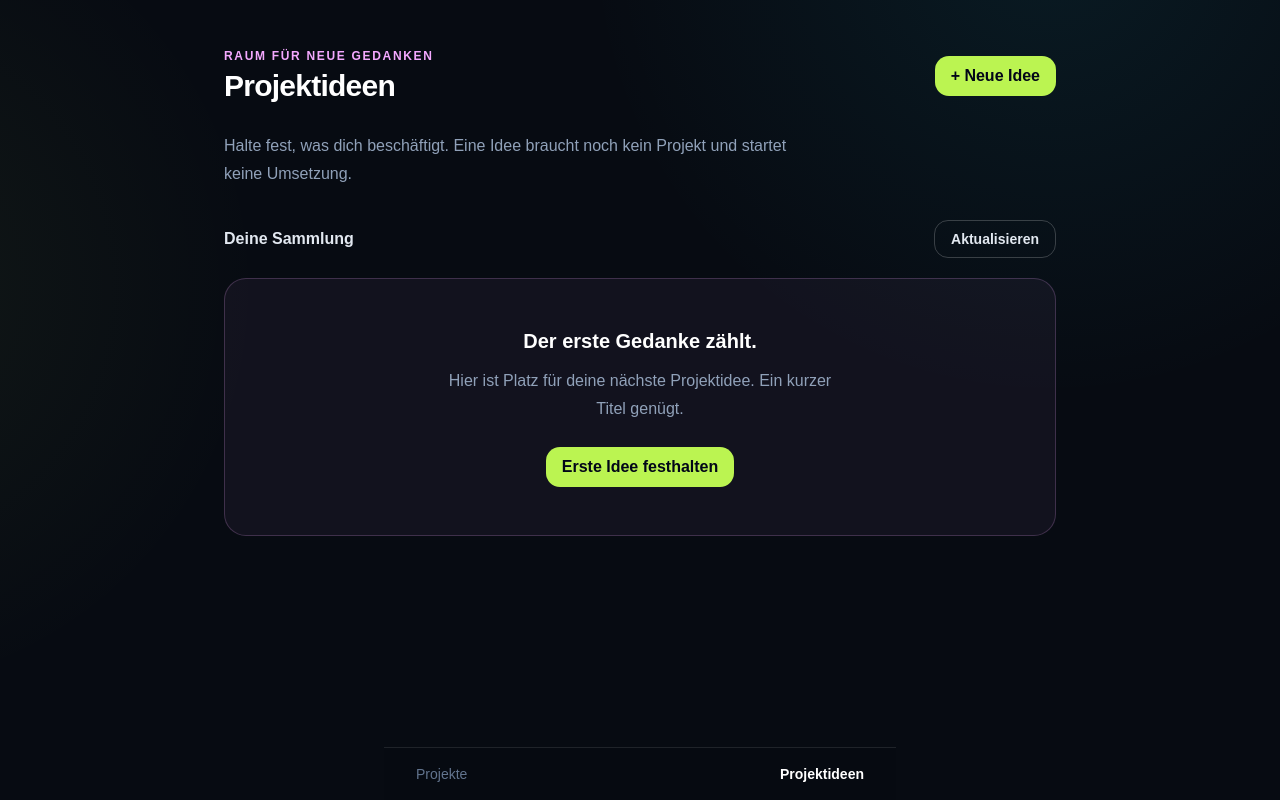
Scenario: Projektideen › beginnt aus der leeren Sammlung und erlaubt einen Titel ohne Details
The width and height of the screenshot is (1280, 800).
Check: the heading "Der erste Gedanke zählt." is shown, box [523,330,757,352]
Click the button "Erste Idee festhalten". click: [640, 467]
box: [546,447,734,487]
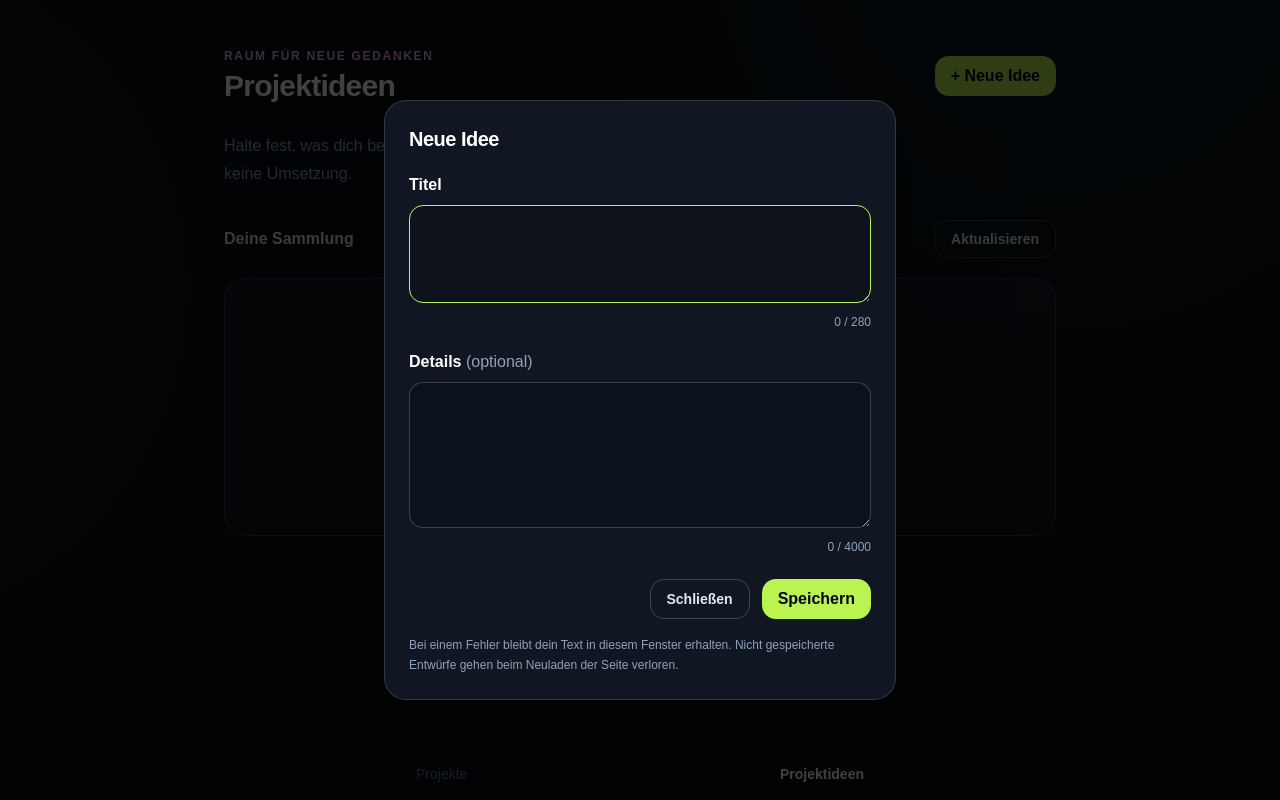
Type "Nur ein Gedanke" into the text box labelled "Titel". click: [640, 254]
box: [409,205,871,303]
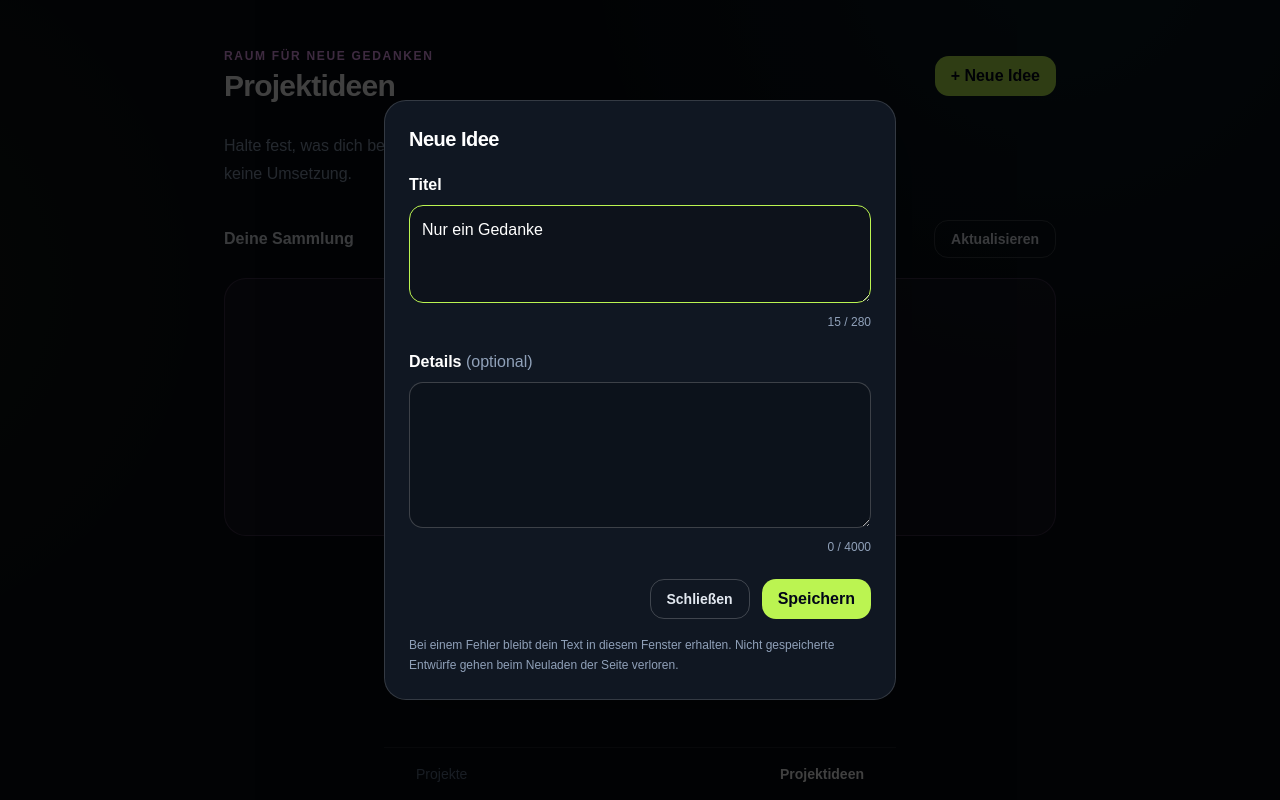
Click the button "Speichern". click: [816, 599]
box: [762,579,871,619]
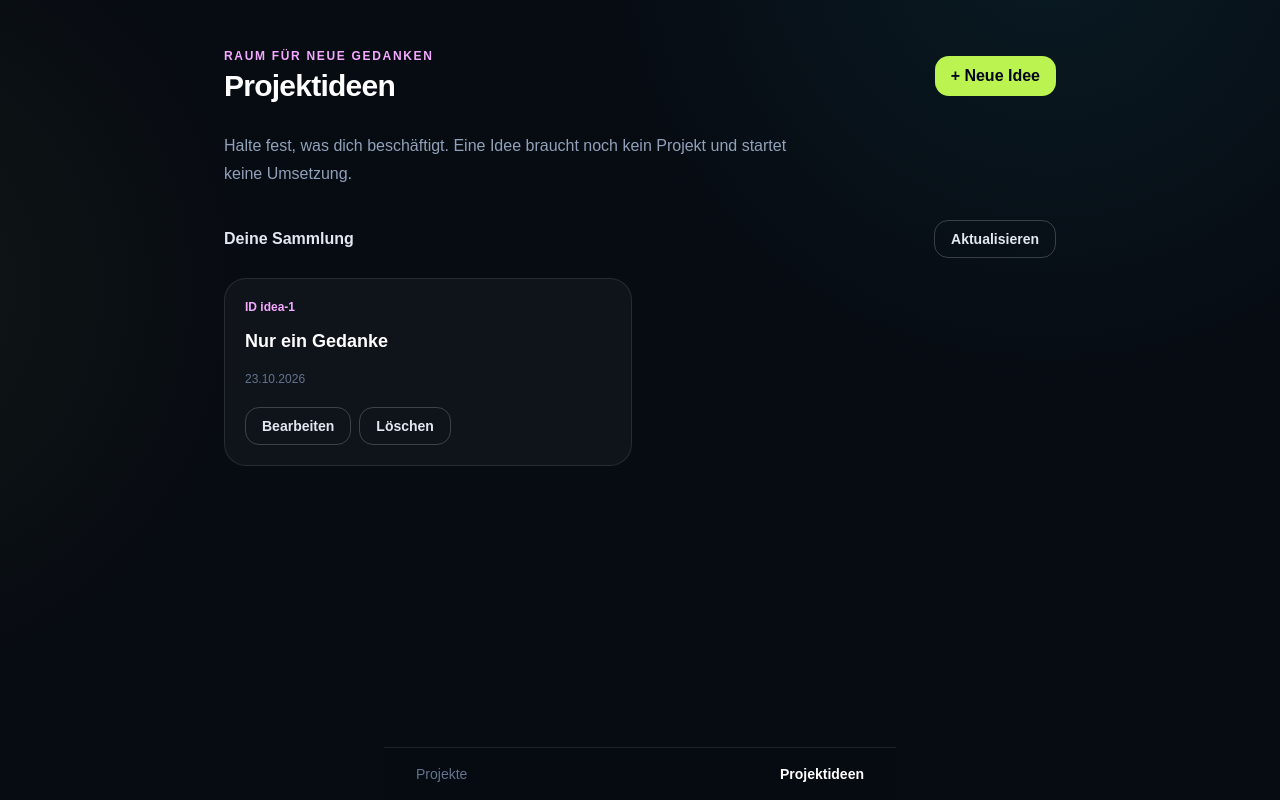
Check: the heading "Nur ein Gedanke" is shown, box [245,331,388,351]
